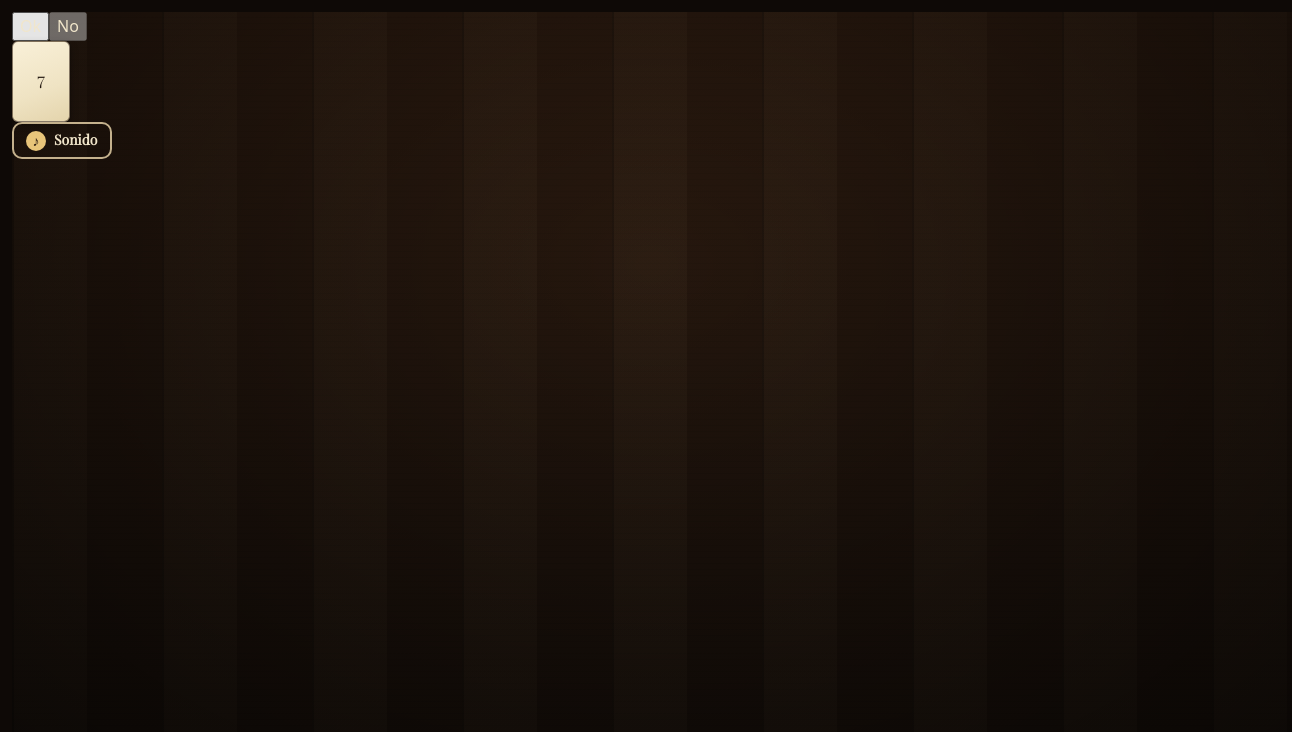
Test case: control en pantalla › silencia, cambia el volumen y apaga la música
Click the button "♪ Sonido" at (62, 141), box [12, 122, 112, 159]
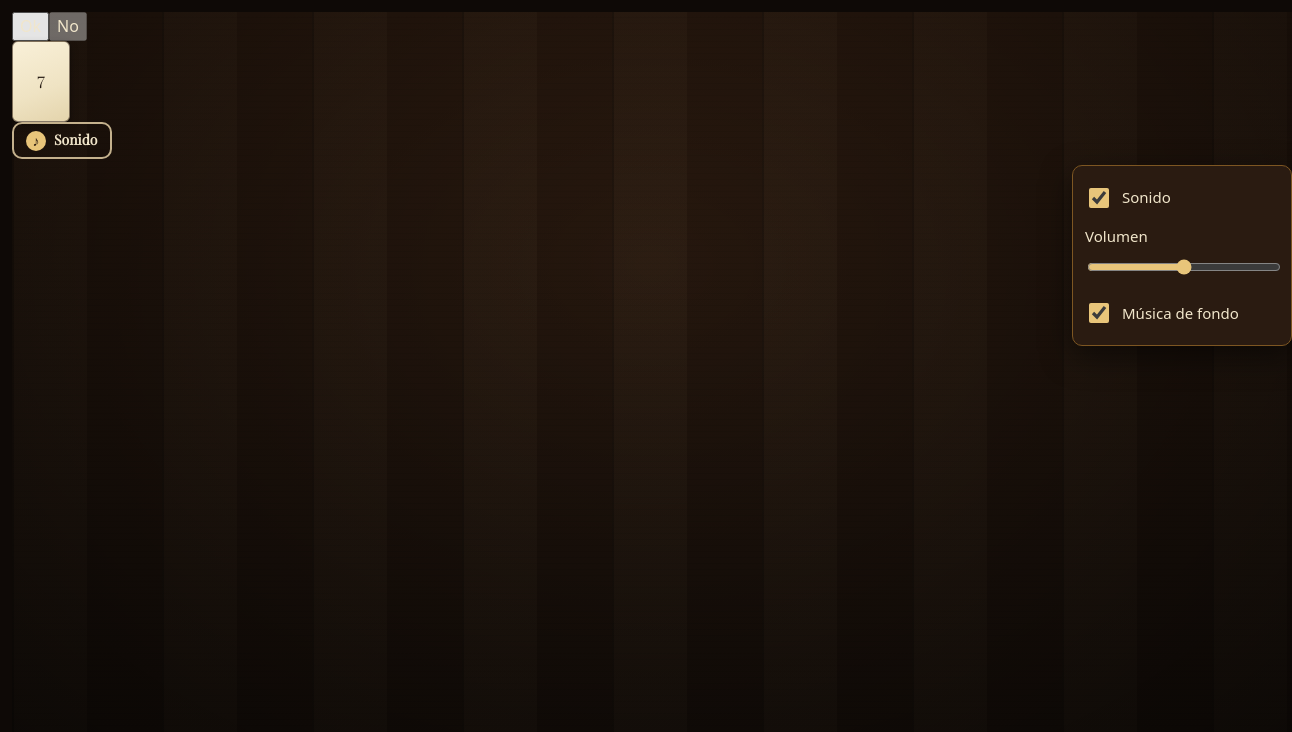
Click the checkbox labelled "Música de fondo" at (1099, 313), box [1089, 303, 1109, 323]
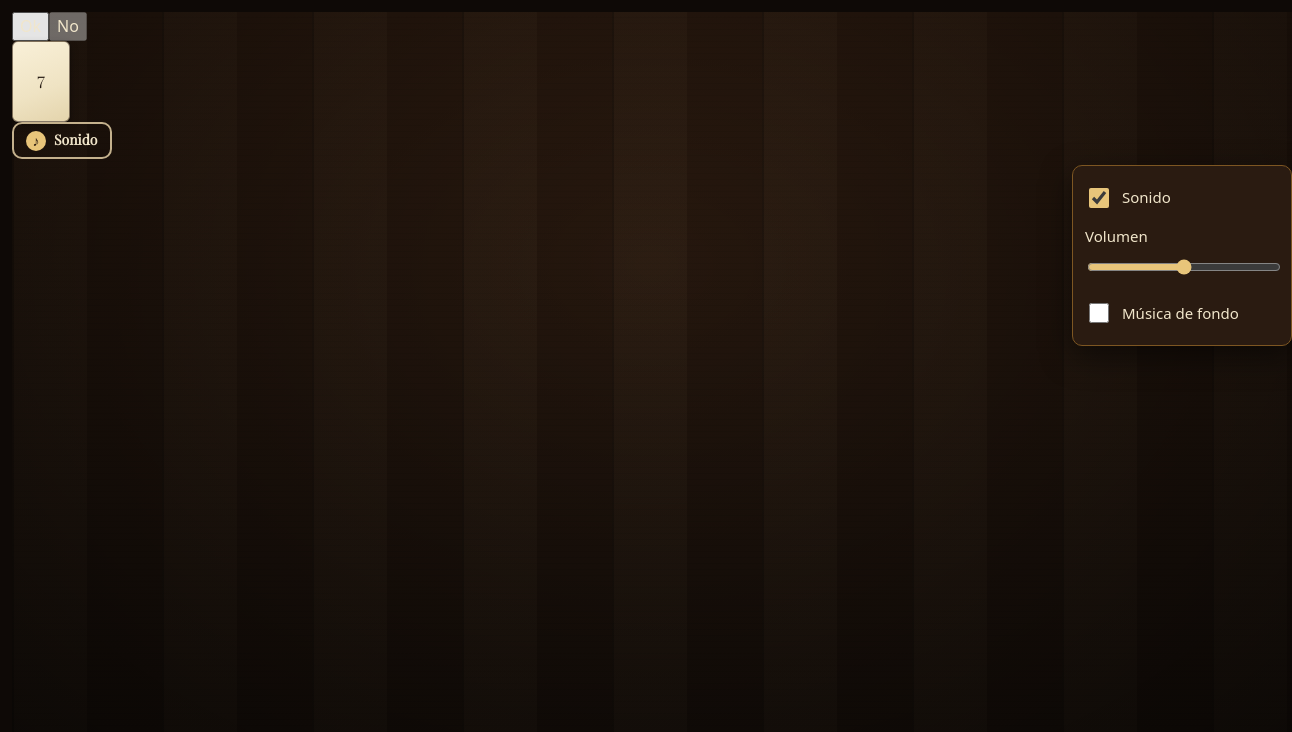
Set the slider to "80" at (1237, 267), box [1087, 251, 1281, 283]
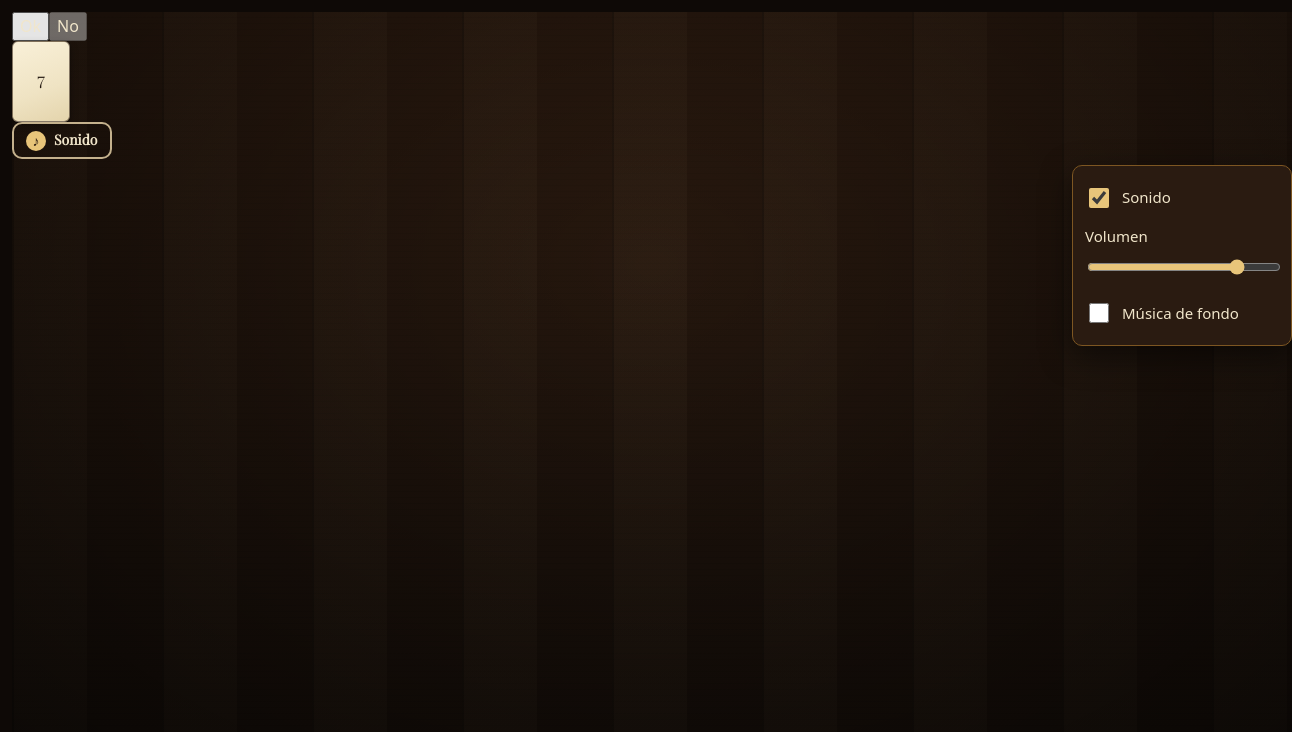
Click the checkbox labelled "Sonido" at (1099, 198), box [1089, 188, 1109, 208]
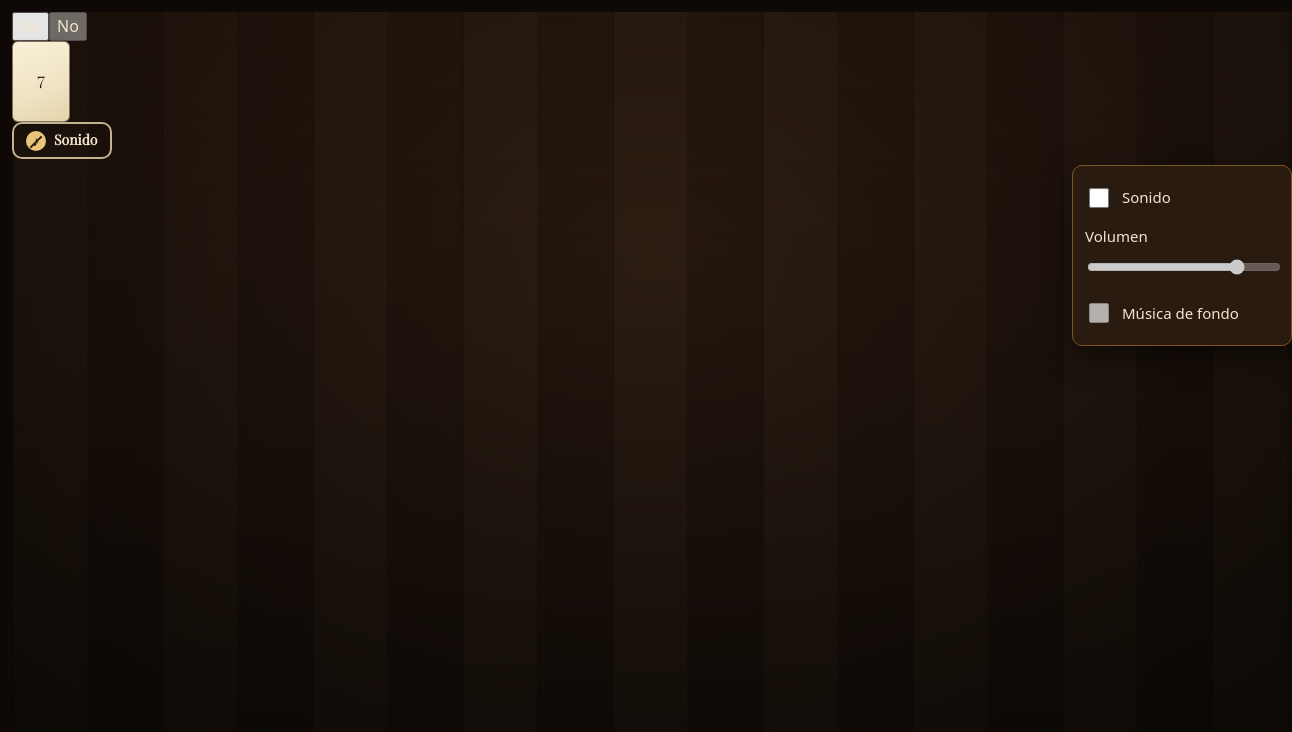
Result: the button with aria-label "Sonido (silenciado)" is shown at [12, 122, 112, 159]
